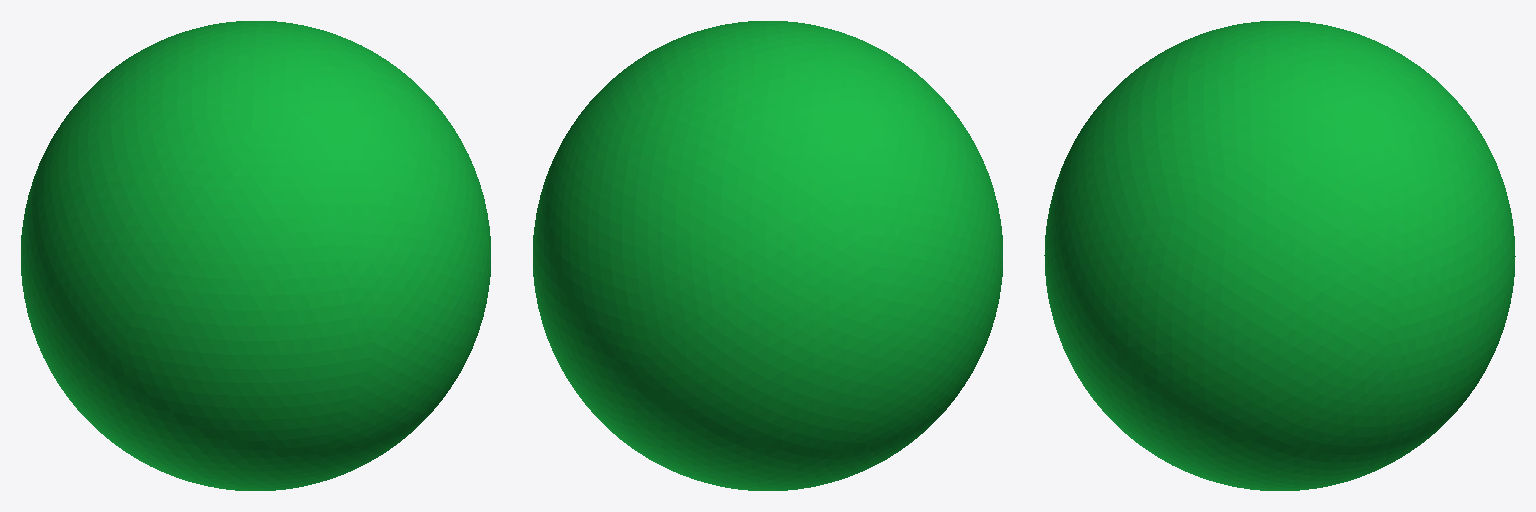
File: bulle_v2.obj
3 views of the same model, side by side, from view 1: azimuth 30°, elevation 25°; view 2: azimuth 150°, elevation 25°; view 3: azimuth 270°, elevation 25° (orthographic).
Parts seen in each view (by area): view 1: Object.1; view 2: Object.1; view 3: Object.1.
Boxes of the visible parts, x1,y1,x2,y2 form: Object.1: [21, 21, 490, 490]; Object.1: [533, 21, 1002, 490]; Object.1: [1044, 21, 1515, 490].
Bounding box in the file's own units: 50 × 50 × 50.